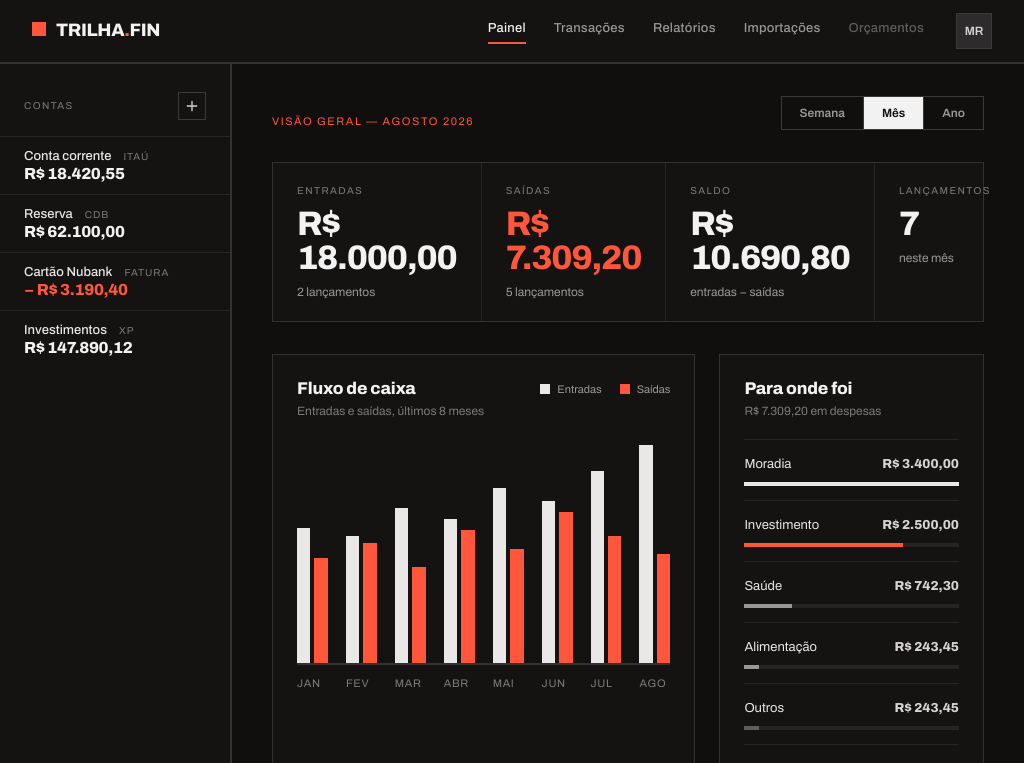
Test: ProfileModal › abre a conta pelo menu com os dados do perfil
The image size is (1024, 763).
Click the button with aria-label "menu do usuário": (974, 31) [956,13,992,49]
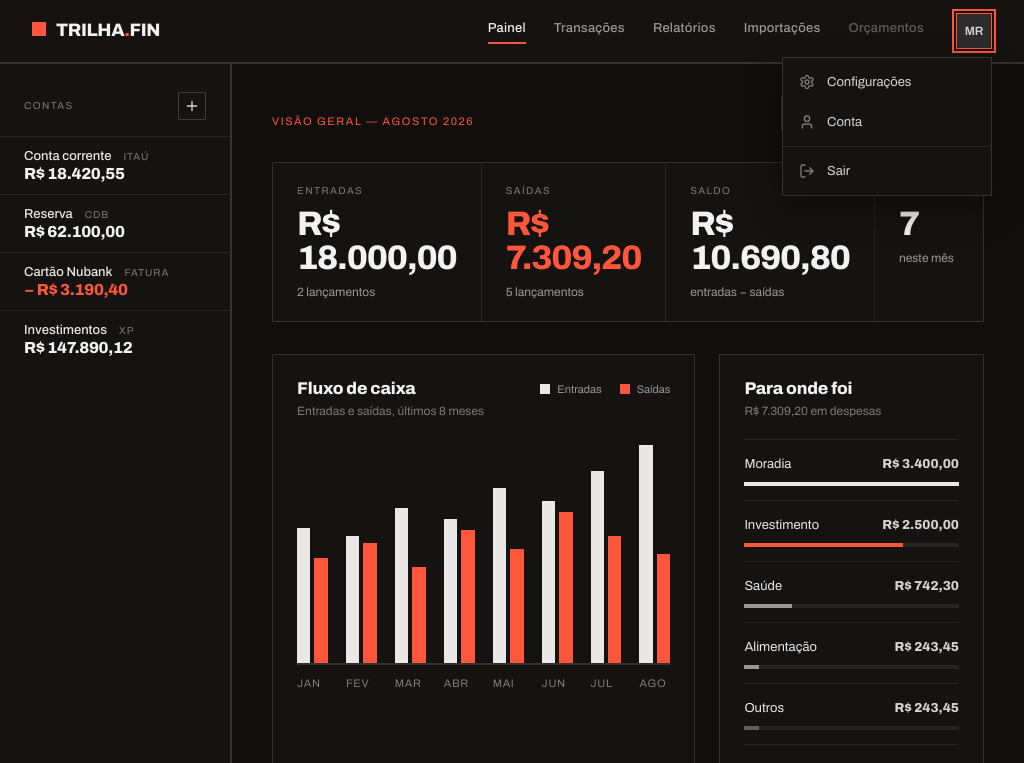
Click the menu item "Conta": (887, 122) [783,102,991,142]
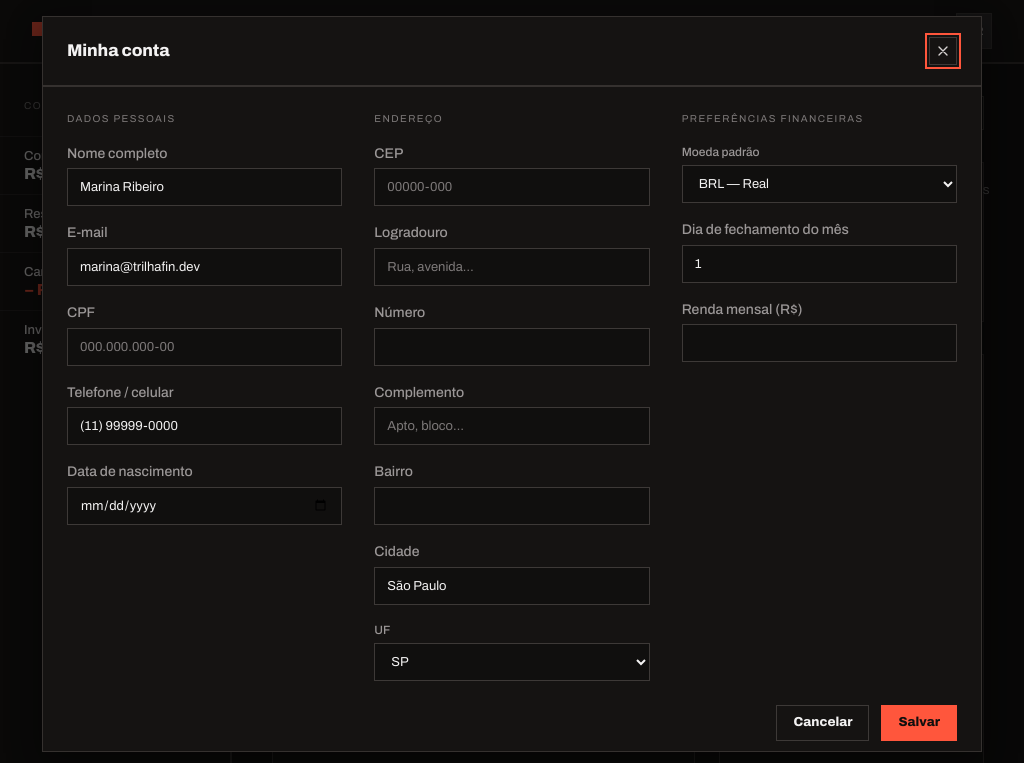
Expected: the heading "Minha conta" is shown, [67,42,170,60]
Expected: the field labelled "Nome completo" holds "Marina Ribeiro", [67,168,342,206]
Expected: the field labelled "E-mail" holds "marina@trilhafin.dev", [67,248,342,286]
